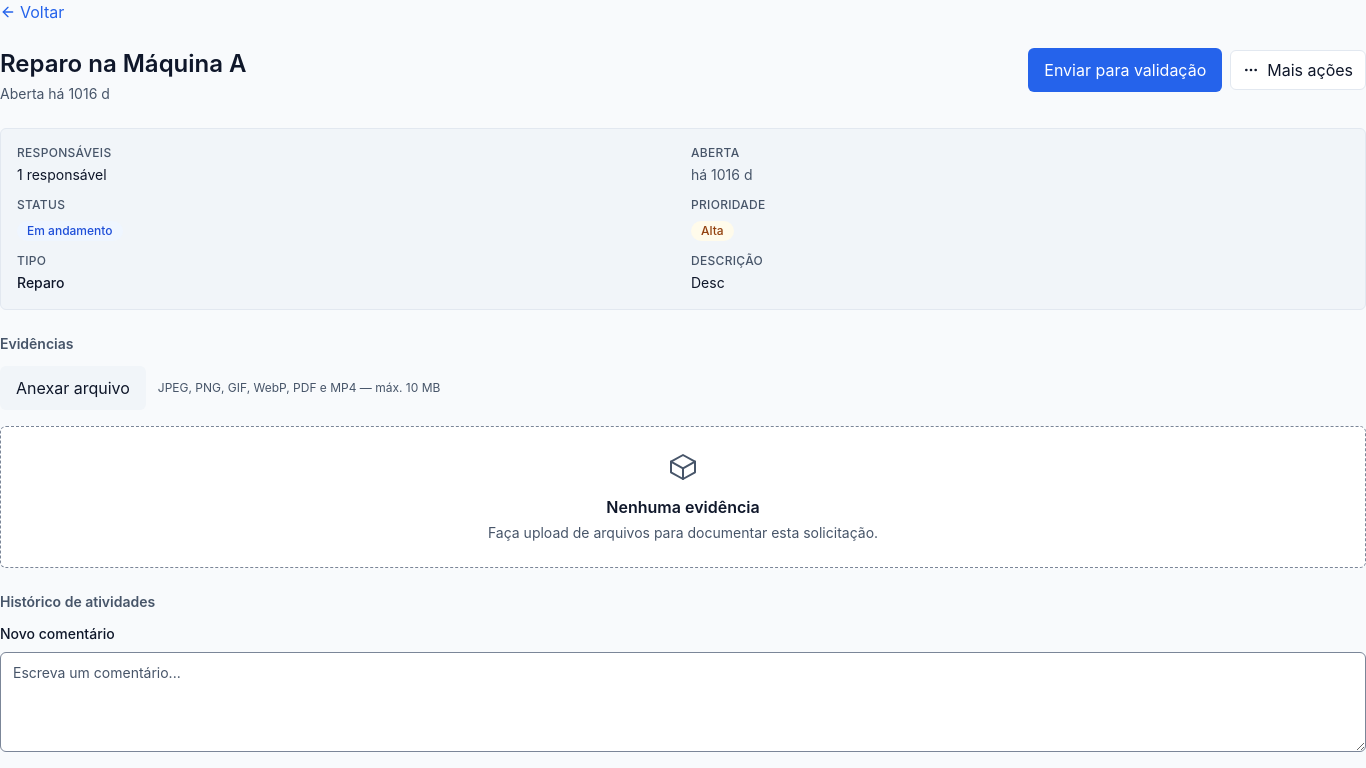
Test case: SolicitacaoDetalhePage › opens enviarValidacao modal when button is clicked
Click the button "Enviar para validação" at coordinates (1125, 70), box [1028, 48, 1222, 92]
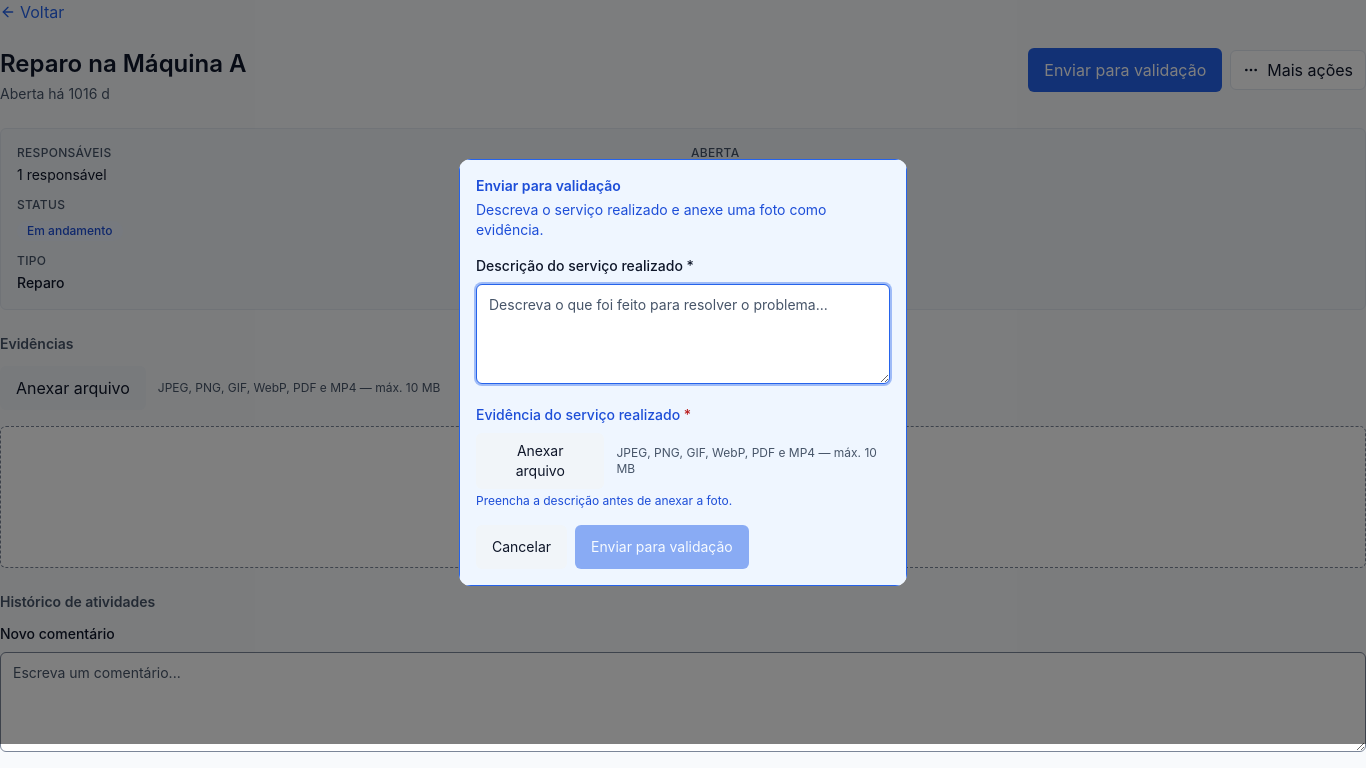
Check: the text "Descrição do serviço realizado *" is shown, box [476, 256, 694, 274]
